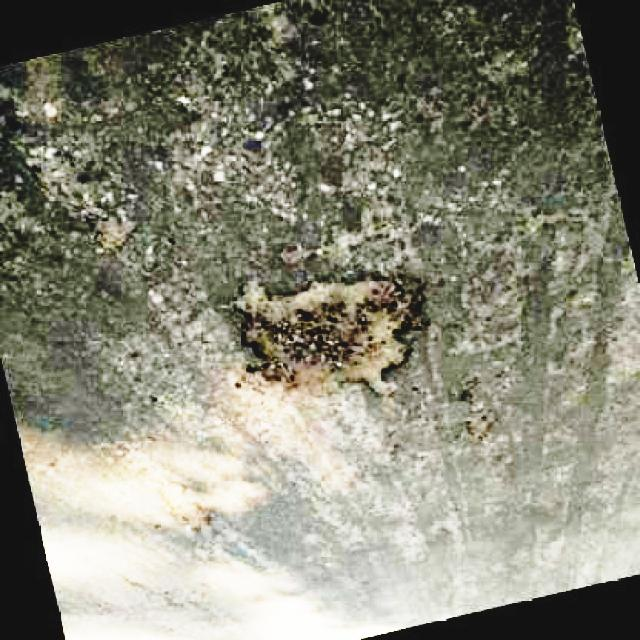pothole: (234, 272, 428, 396), (27, 129, 142, 262), (148, 466, 214, 539)
